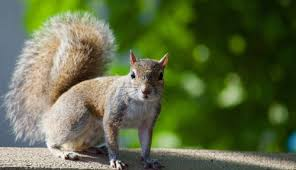squirrel: (17, 10, 169, 169)
